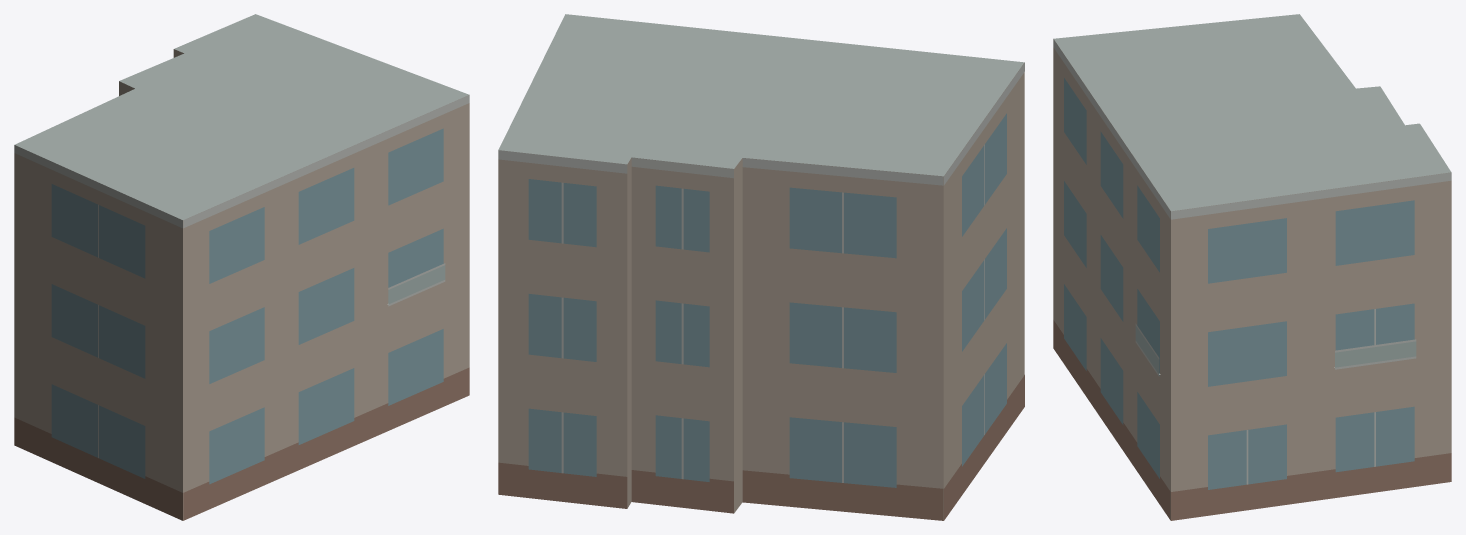
Rendered from survey-upis-32513145.glb.
3 views of the same model, side by side, from view 1: azimuth 30°, elevation 25°; view 2: azimuth 150°, elevation 25°; view 3: azimuth 270°, elevation 25° (orthographic). The views are drawn at different scales.
Parts seen in each view (by area): view 1: survey-upis-32513145.tmp; view 2: survey-upis-32513145.tmp; view 3: survey-upis-32513145.tmp.
Part boxes in pixels (bbox=[...]): survey-upis-32513145.tmp: bbox=[14, 14, 469, 520]; survey-upis-32513145.tmp: bbox=[498, 14, 1024, 520]; survey-upis-32513145.tmp: bbox=[1053, 14, 1451, 520].
Size of the model in its own units: 12.32 by 9 by 10.5.
